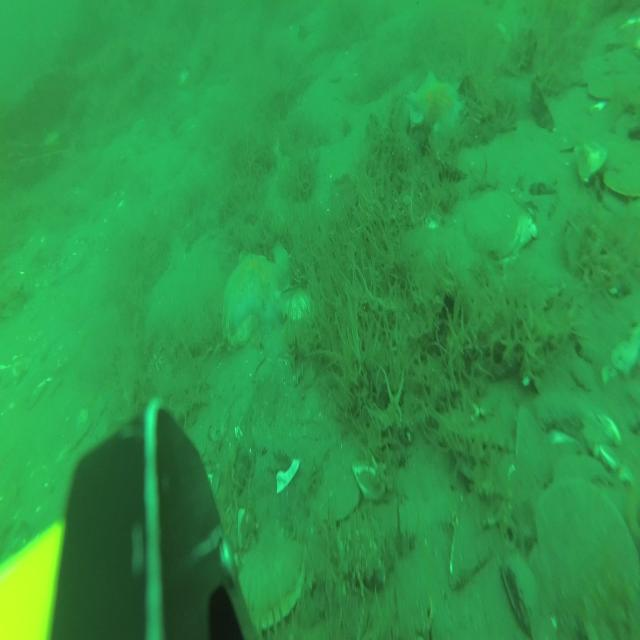scallop: (533, 483, 639, 636), (227, 531, 303, 623), (464, 188, 534, 262), (604, 136, 640, 197)
starfish: (220, 240, 295, 334), (407, 71, 467, 135)
